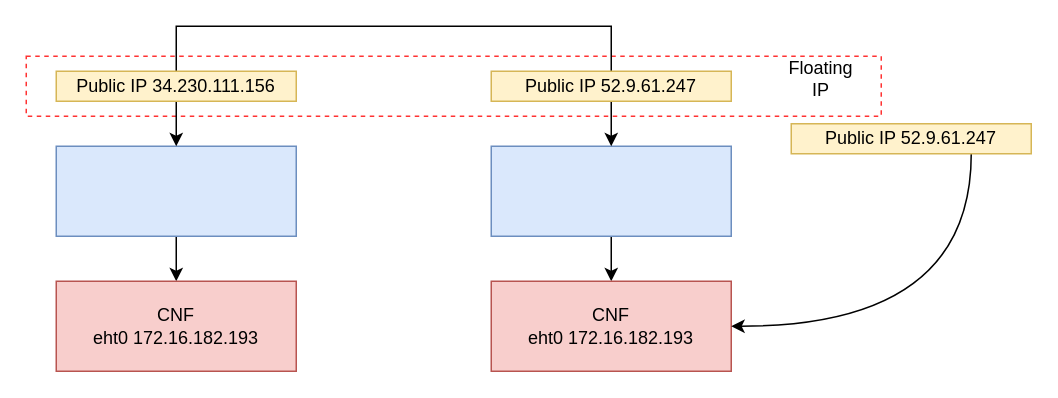
The diagram is 1058 pixels wide and 398 high, and some of its shapes have lost their labels. The shapes that lost their labels are listed below. From the top down, each one's centre as x and y in pixels, then its label:
(x=175, y=190): Sun Node eth0 10.20.0.118
(x=610, y=190): Moon Node eht0 172.16.182.193
